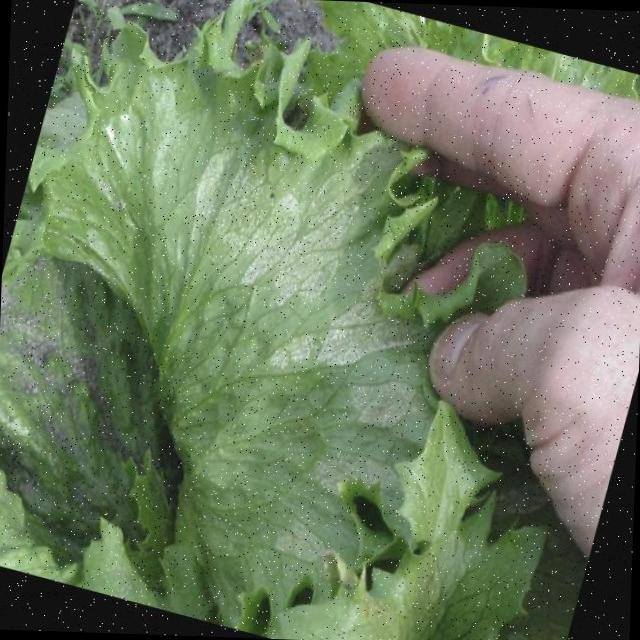Powdery_mildew_on_lettuce: (116, 130, 404, 448)
